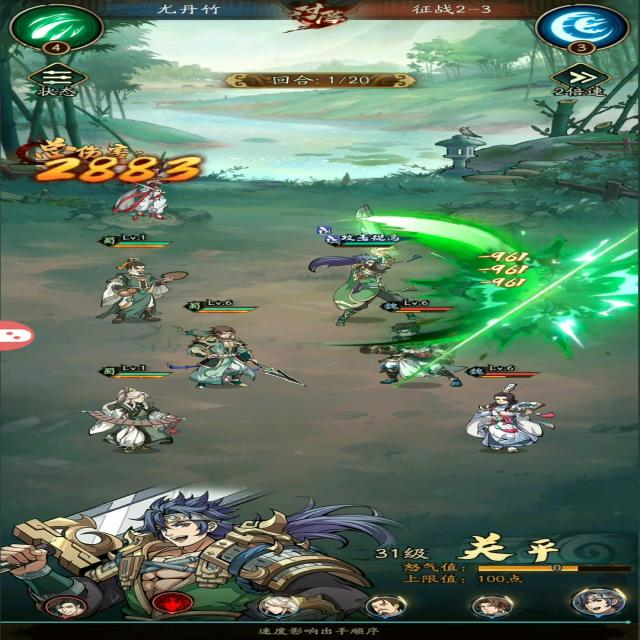hint-guide: (241, 624, 407, 640)
operation-fightspeed: (524, 62, 618, 98)
operation-status: (15, 56, 110, 108)
